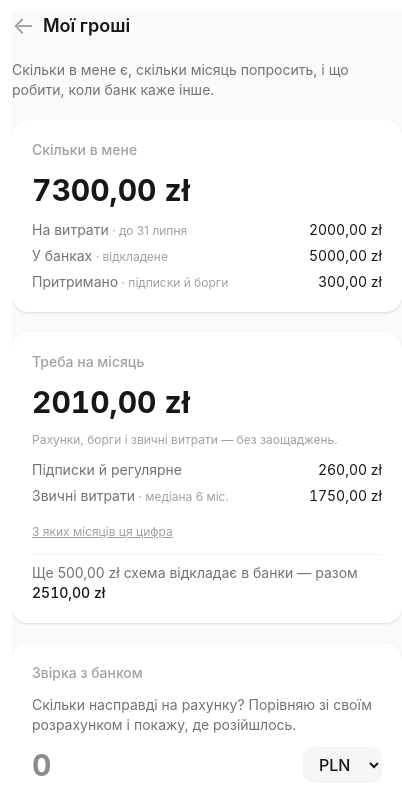
Test: Мої гроші › opens the months the median was taken from
This screenshot has width=402, height=792.
Click the button "З яких місяців ця цифра": (102, 532) [32,524,173,540]
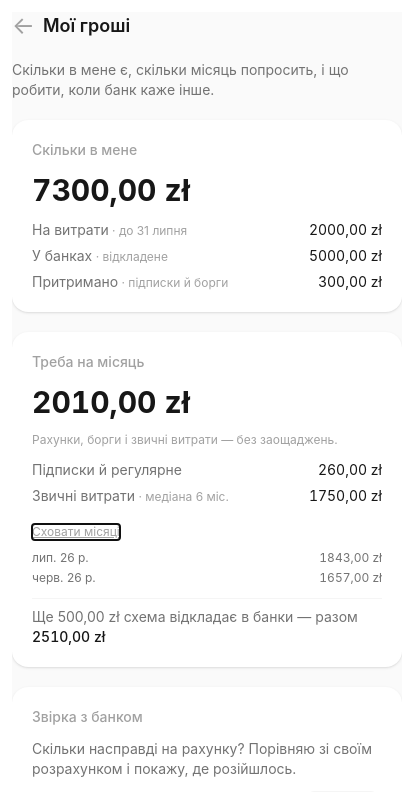
Check: the text "лип. 26 р." is shown, box [32,550,89,566]
Check: the text "1843,00 zł" is shown, box [319,550,382,566]
